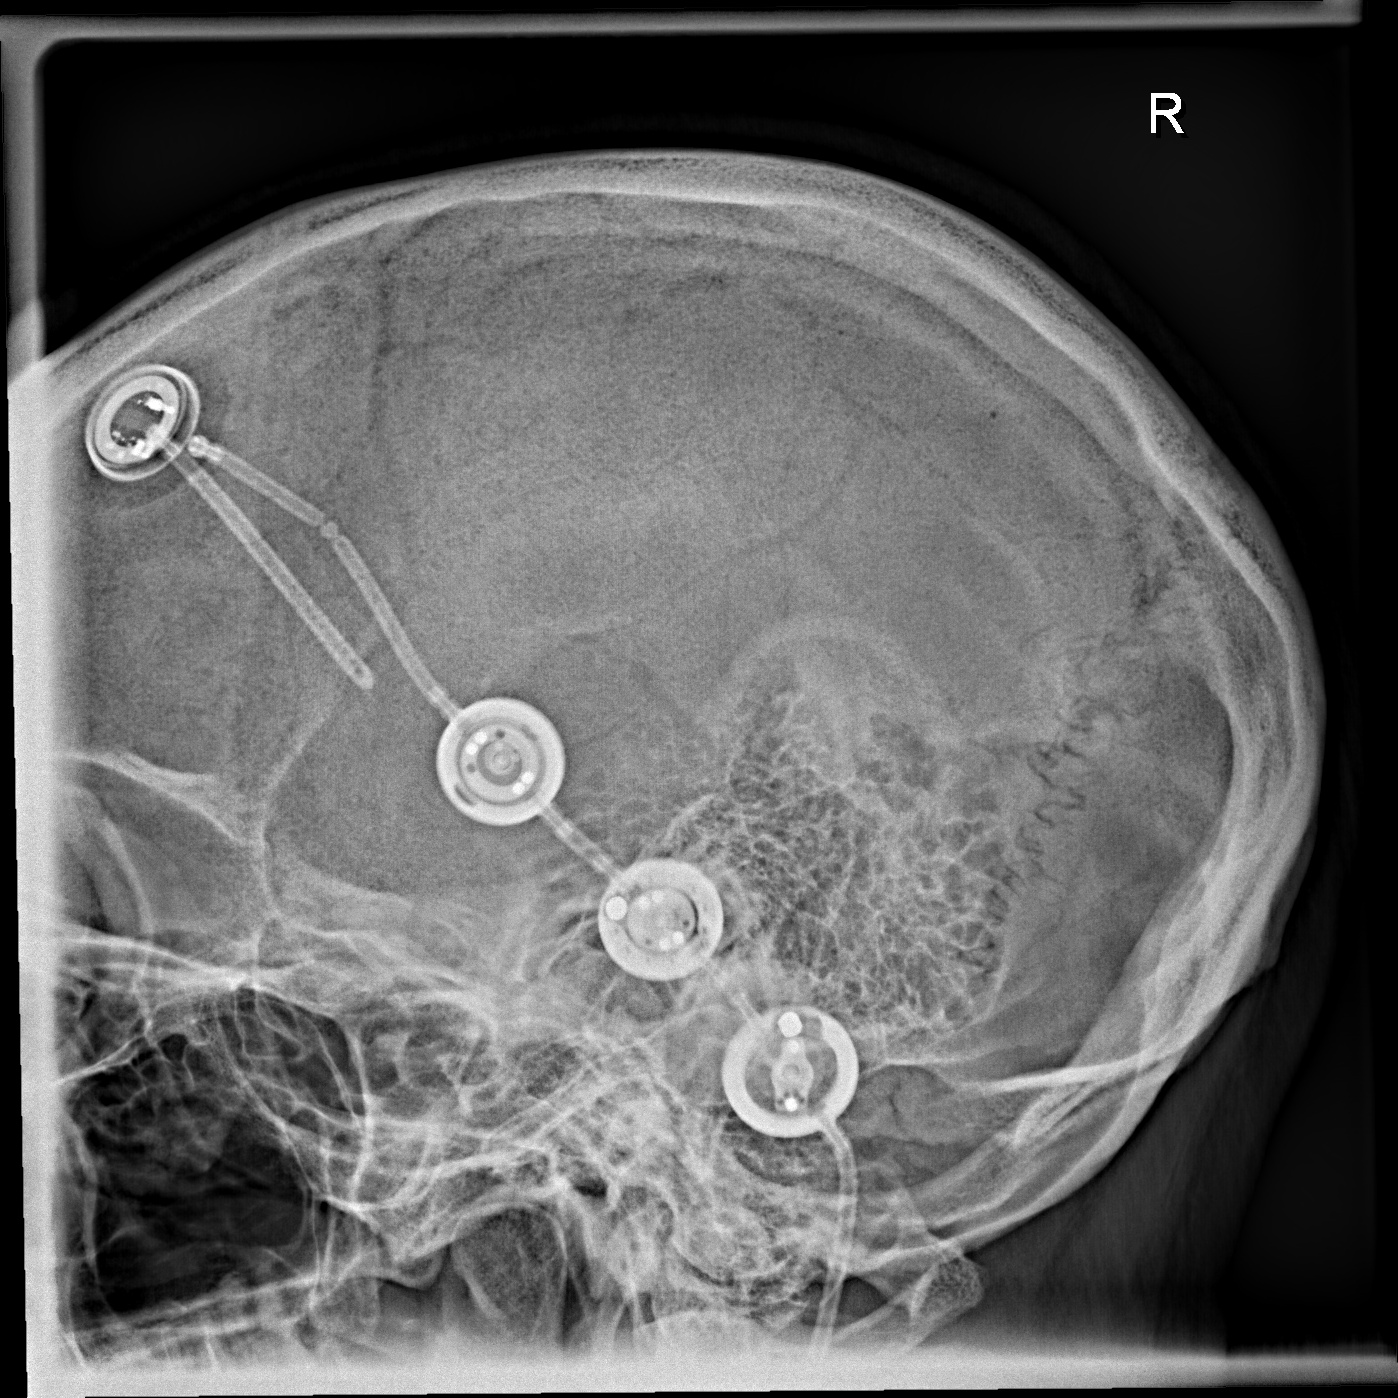m.blue: (591, 853, 728, 984)
proGAV 2.0: (430, 693, 568, 833)
proSA: (719, 1001, 860, 1142)
